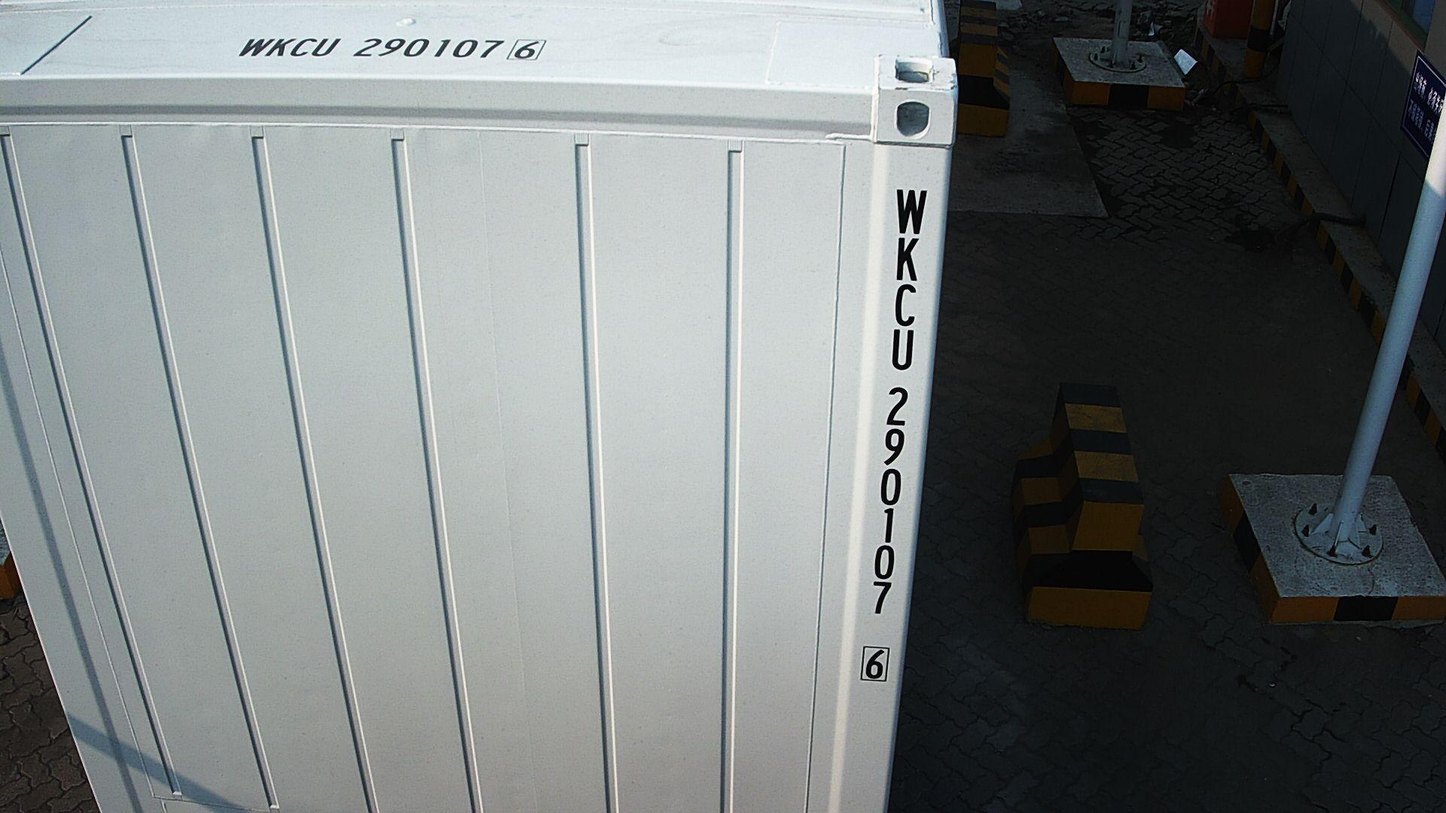container-numbers: (854, 181, 933, 689), (221, 32, 552, 63)
